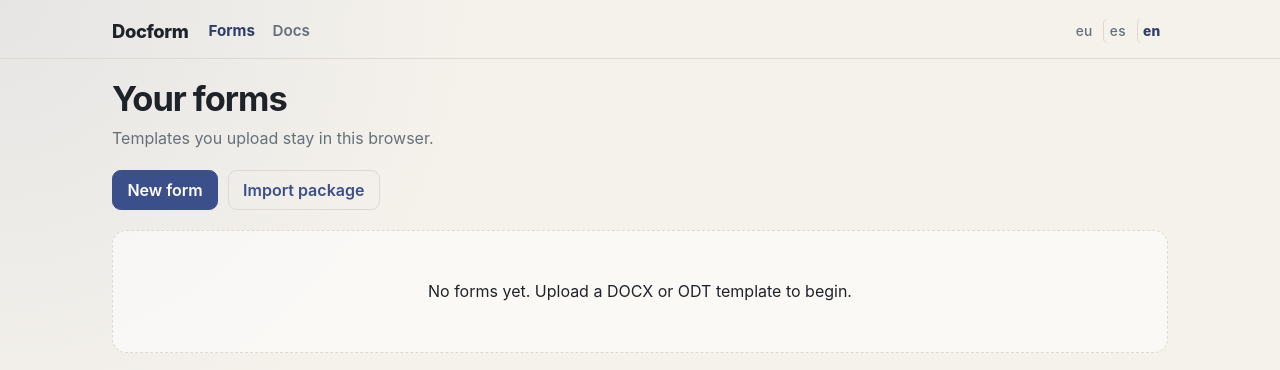
Test case: App shell › switches the interface between Euskara, Español, and English
This screenshot has width=1280, height=370.
Expected: the heading "Your forms" is shown, [112,78,287,119]
Click the button with aria-label "es — Español". click: point(1118, 31)
box: [1102,18,1133,44]
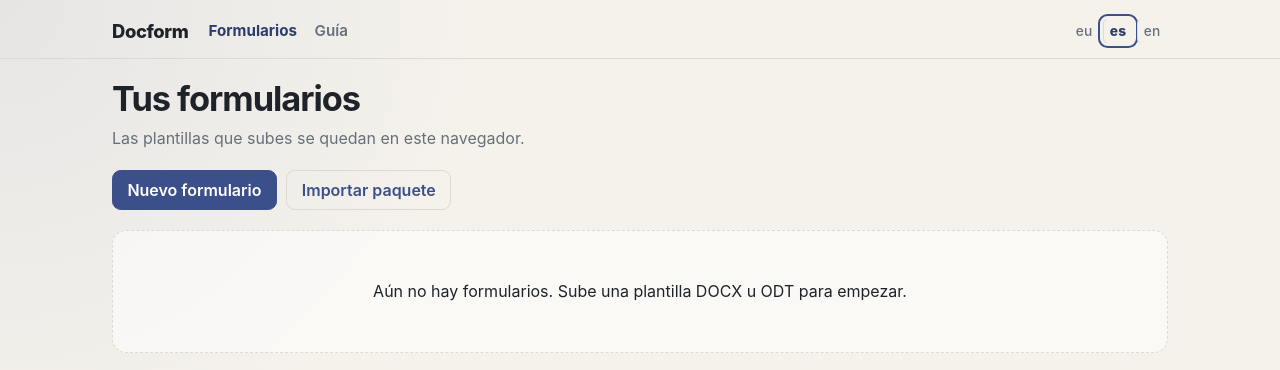
Now the heading "Tus formularios" is shown, box [112,78,360,119]
Click the button with aria-label "eu — Euskara". click: point(1084, 31)
box: [1068,18,1100,44]
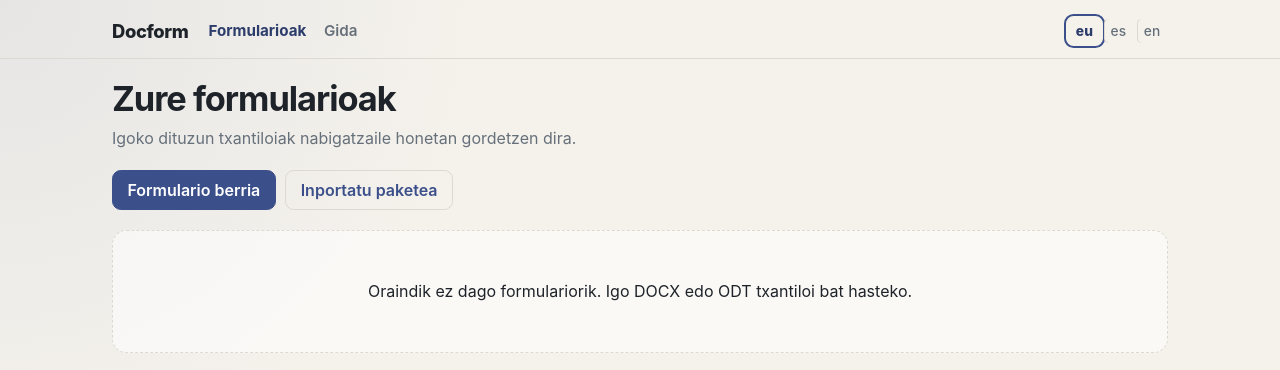
Now the heading "Zure formularioak" is shown, box [112,78,396,119]
